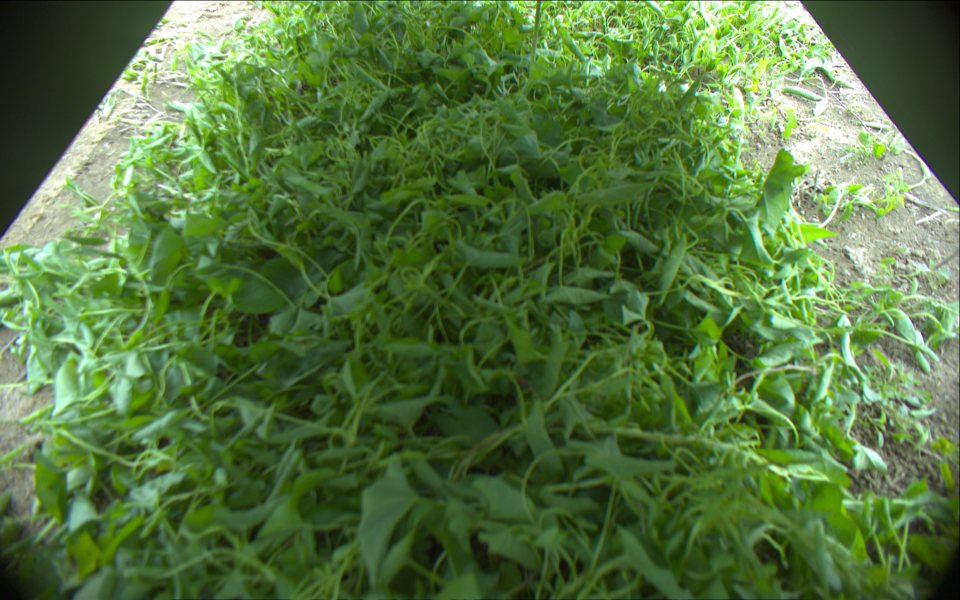aspa: (531, 1, 542, 66)
